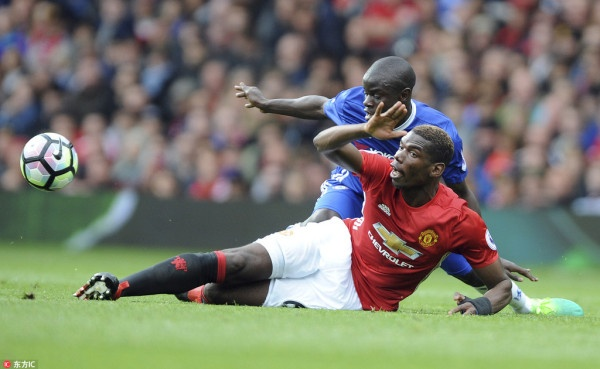falling: (73, 120, 518, 316)
